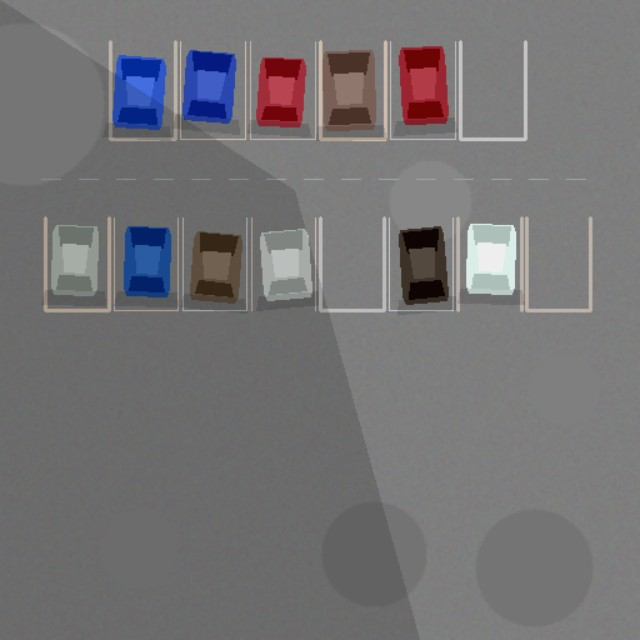space-empty: (460, 41, 525, 139), (320, 217, 384, 310), (526, 217, 590, 310)
space-occupied: (110, 41, 175, 139), (180, 41, 245, 139), (250, 41, 315, 139), (320, 41, 385, 139), (390, 41, 455, 139), (45, 217, 109, 310), (251, 217, 315, 310), (389, 217, 453, 310), (457, 217, 521, 310), (114, 217, 177, 310), (183, 217, 246, 310)
